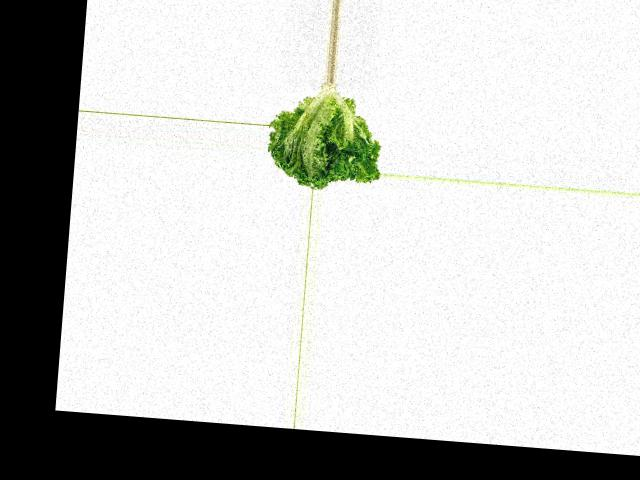lettuce: (264, 78, 386, 193)
